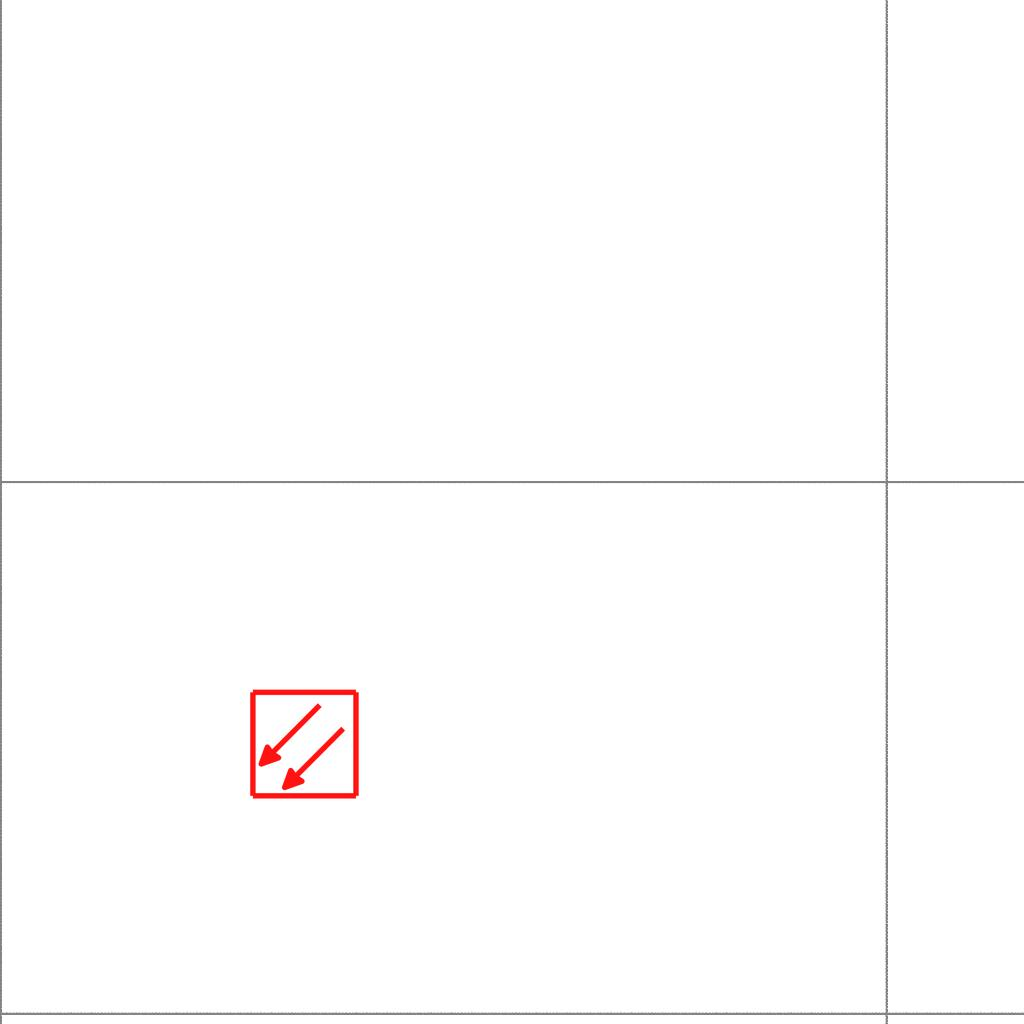RMO_Rauchmelder_optischer: (248, 688, 361, 801)
